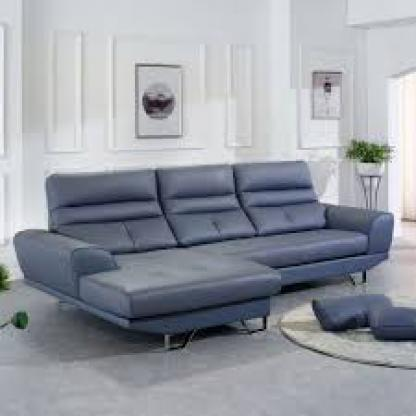sofa: (22, 165, 396, 340)
